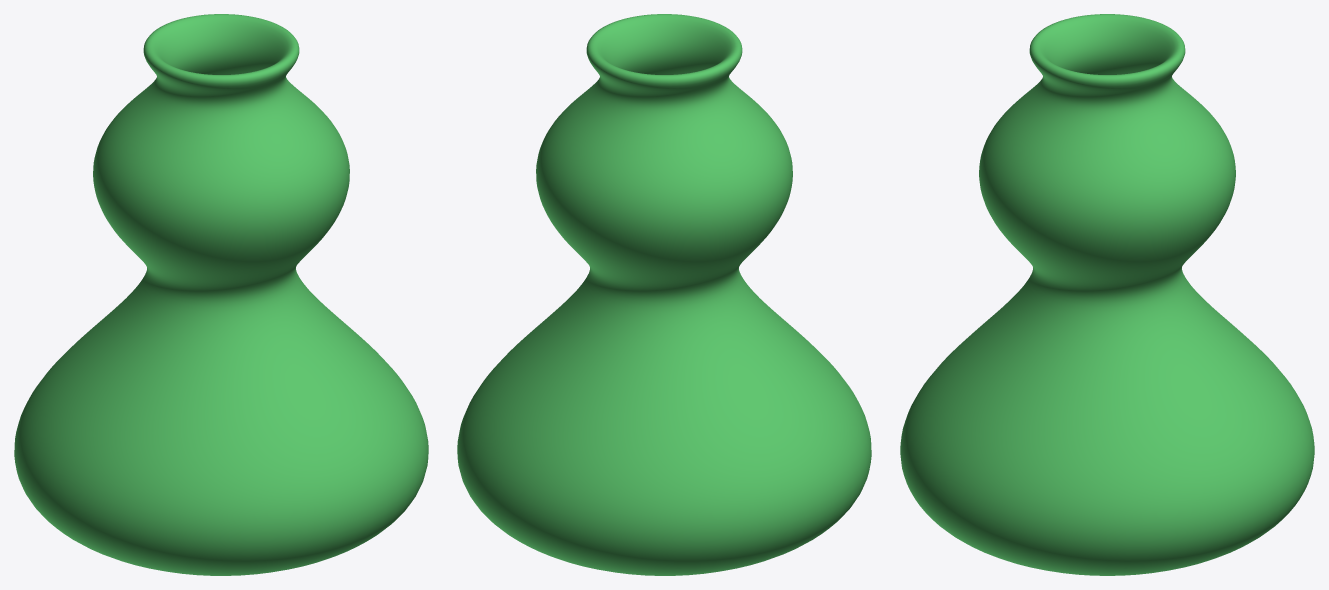
Rendered from Gerro_2.fbx.
The picture shows the model from 3 angles, left to right: view 1: azimuth 30°, elevation 25°; view 2: azimuth 150°, elevation 25°; view 3: azimuth 270°, elevation 25°; orthographic projection.
Visible parts, largest first — view 1: Gerro2; view 2: Gerro2; view 3: Gerro2.
Part boxes in pixels (x1,y1,x2,y2): Gerro2: (14, 14, 428, 575); Gerro2: (457, 14, 871, 575); Gerro2: (900, 14, 1314, 575).
Bounding box in the file's own units: 329 × 427 × 329.
